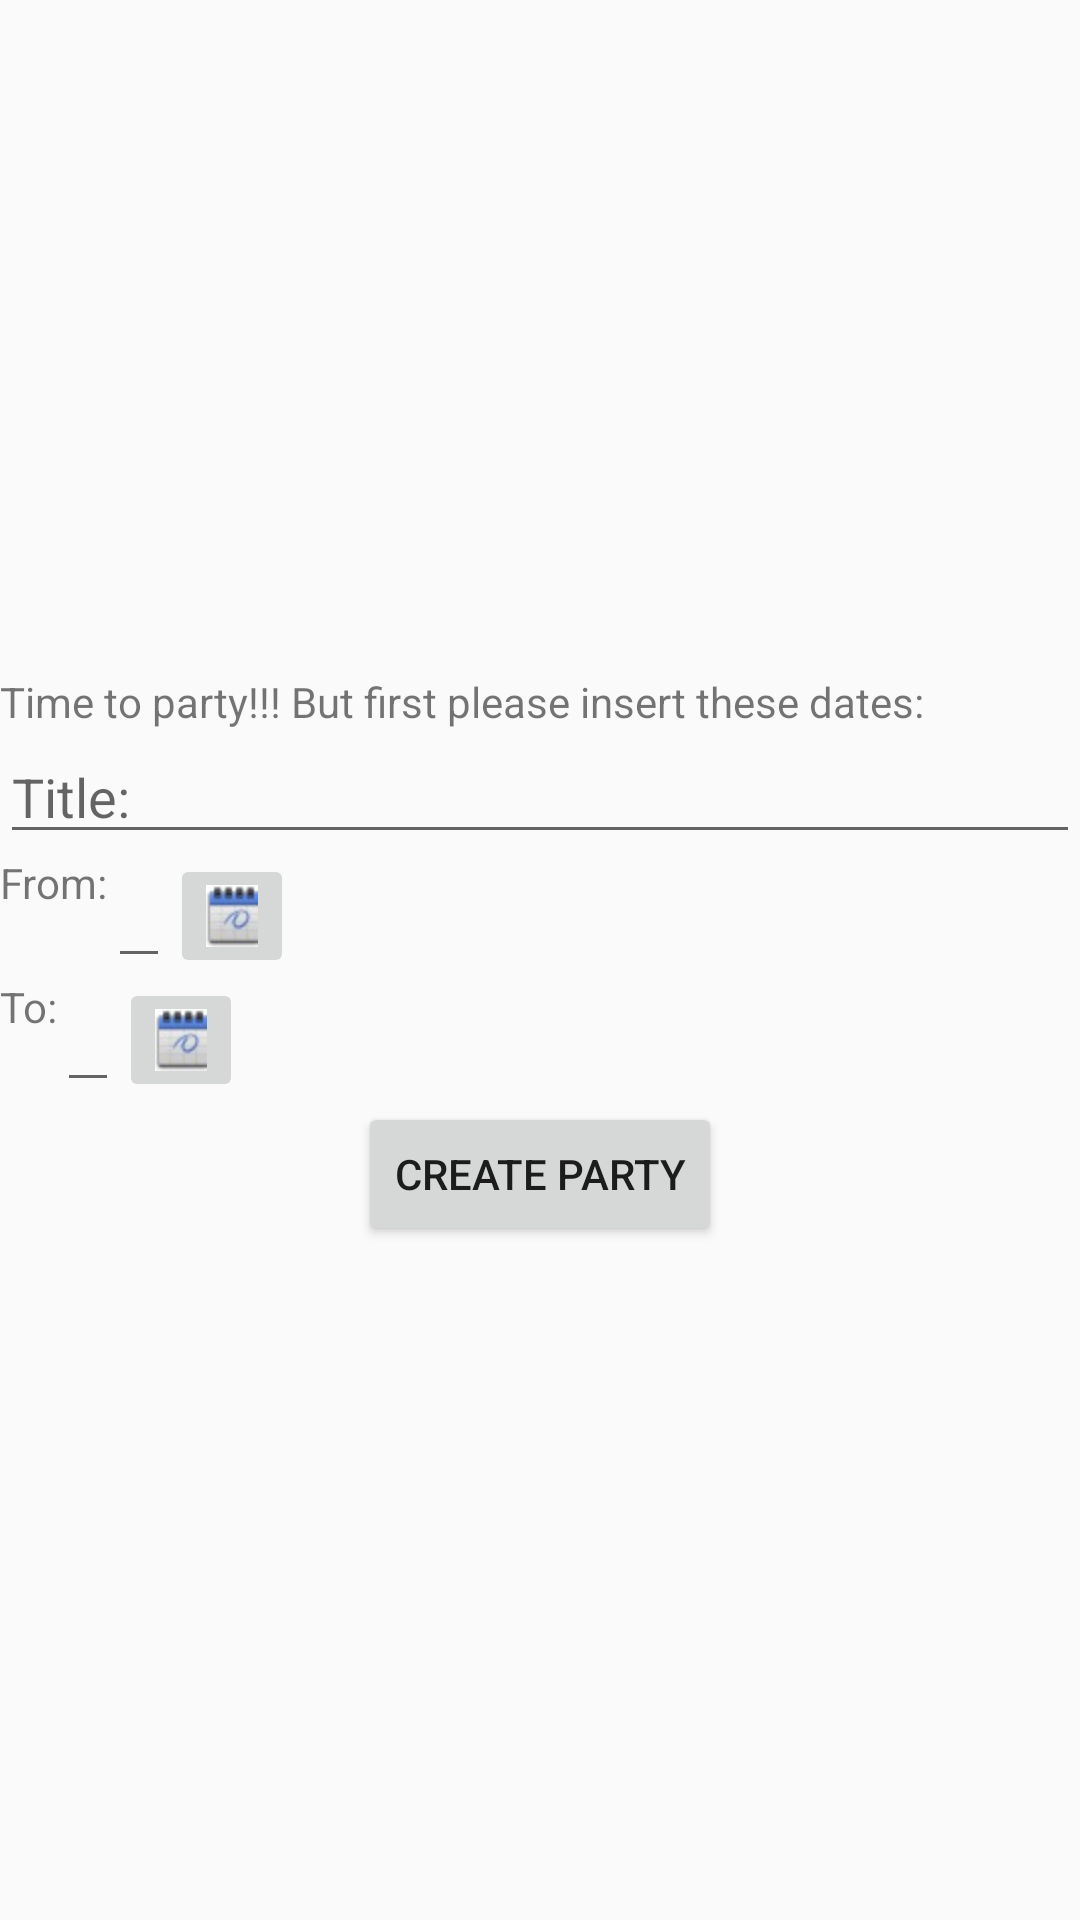

Screen size 1080 × 1920. Icon name, then its box in pixels as (x1, y1, x2, y2):
calendar: (182, 872, 282, 960), (131, 996, 231, 1084)
